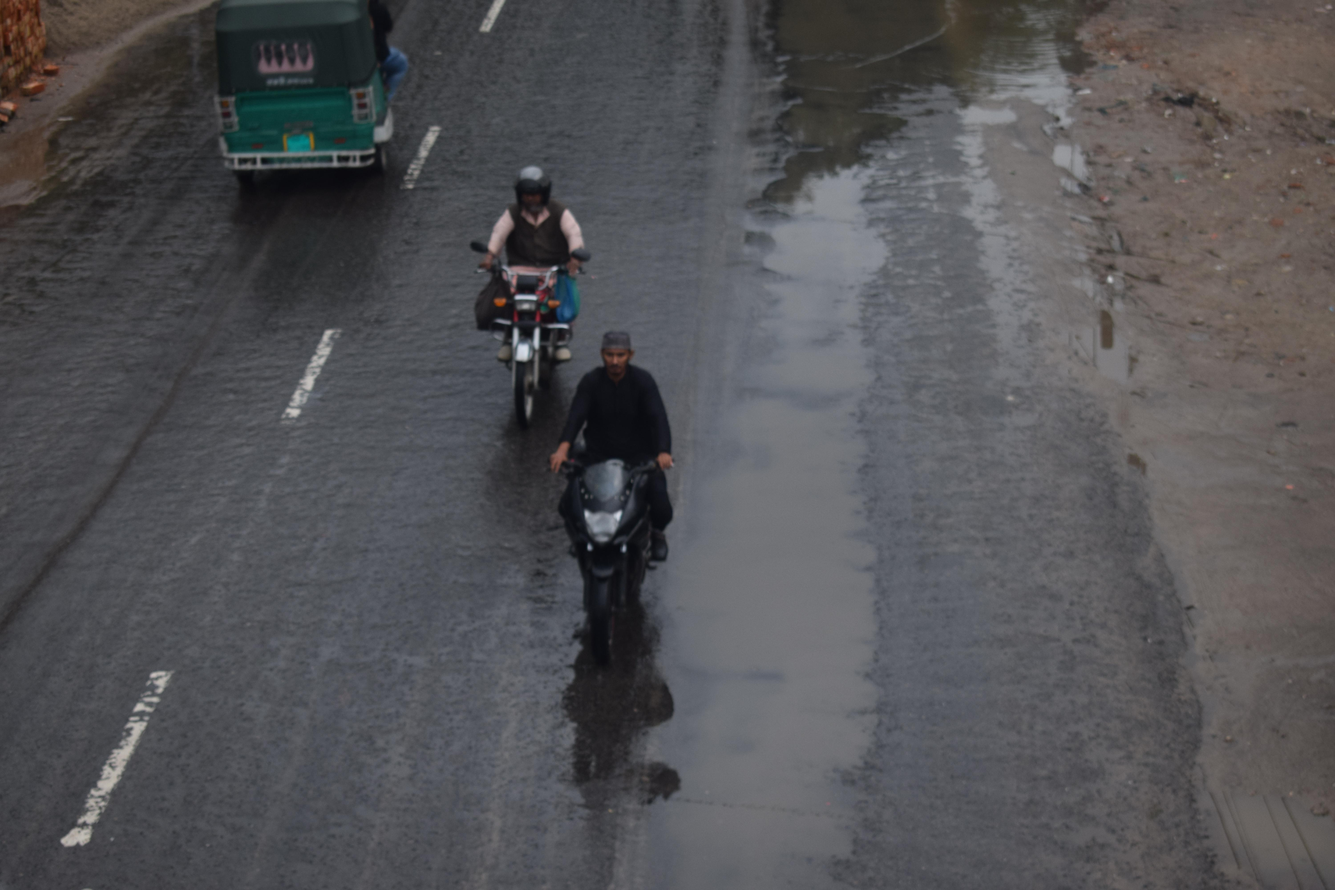Bike: (510, 312, 736, 680), (438, 134, 623, 446)
